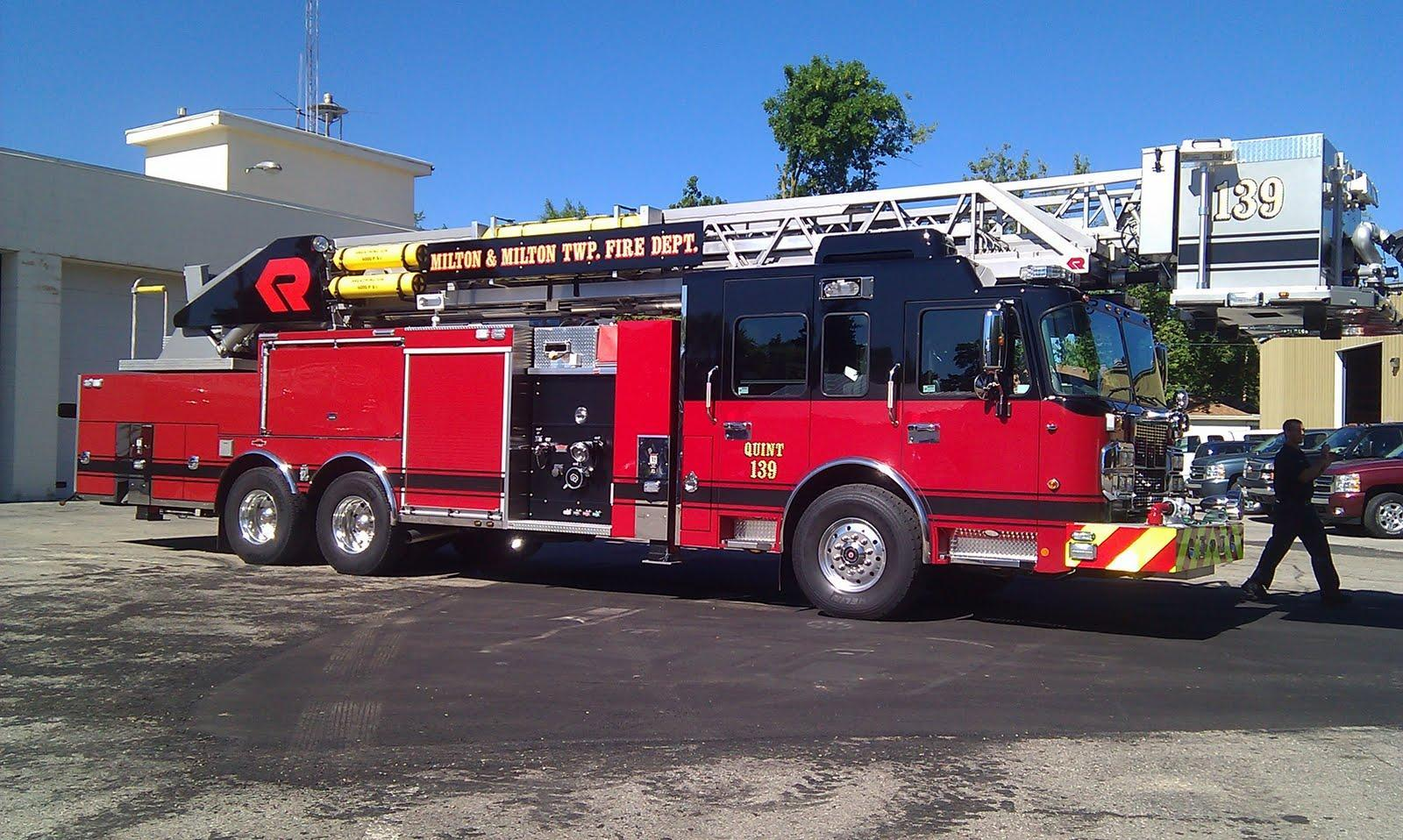Fire-engine: (74, 189, 1396, 621)
